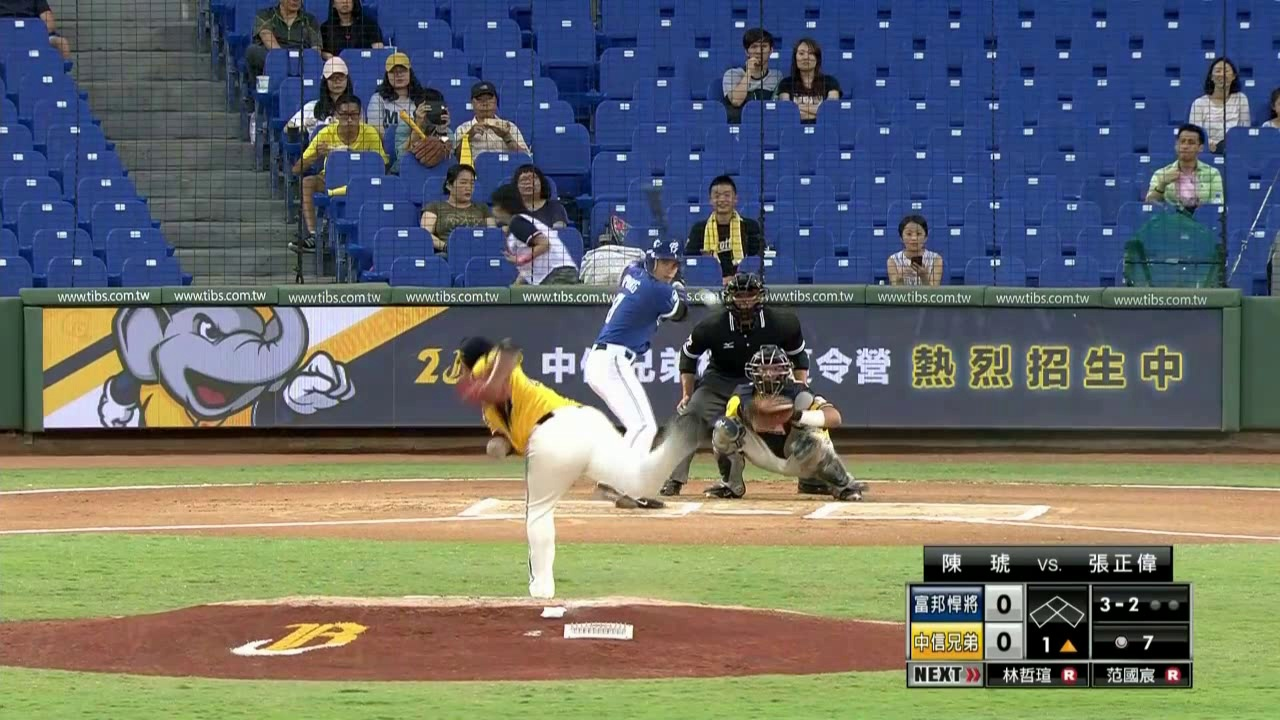ball: (704, 288, 718, 306)
base: (1026, 591, 1086, 632)
bat: (649, 184, 676, 256)
out: (1145, 594, 1183, 616)
score1: (983, 590, 1022, 624)
score2: (986, 630, 1018, 658)
session: (1031, 635, 1084, 656)
strikeball: (1093, 589, 1141, 620)
total: (1108, 628, 1155, 657)
